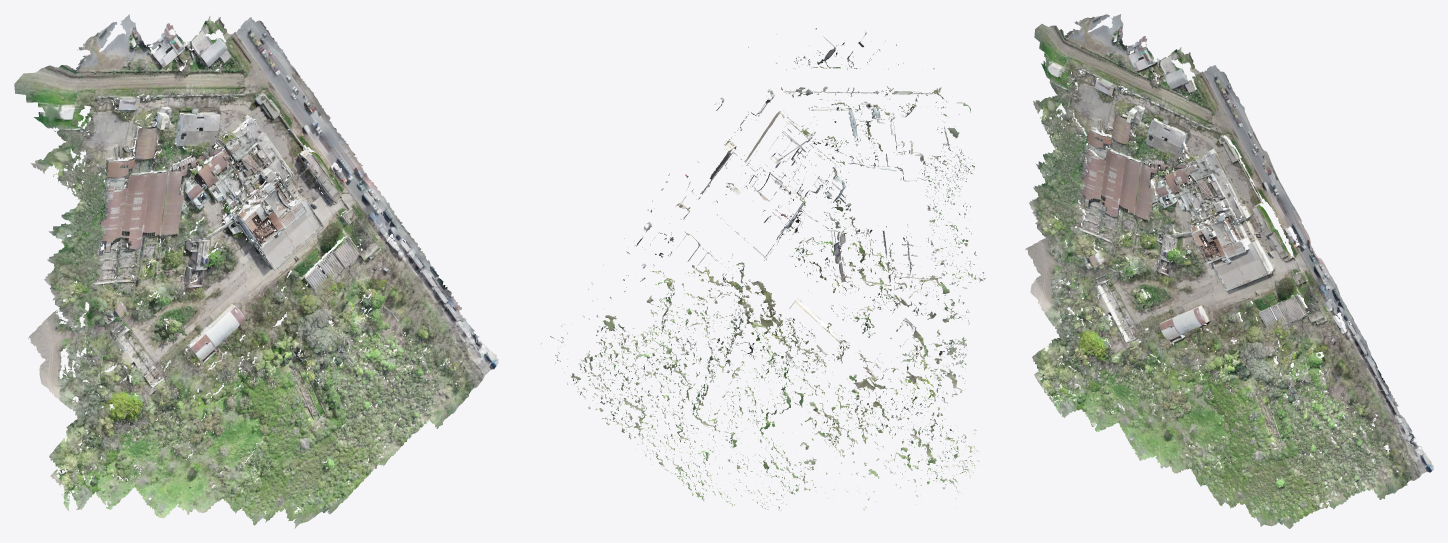
Rendered from modelo-baja.glb.
3 renders of one model, left to right at view 1: azimuth 30°, elevation 25°; view 2: azimuth 150°, elevation 25°; view 3: azimuth 330°, elevation 25°, orthographic. The views are drawn at different scales.
Size of the model in its own units: 319 by 357 by 32.91.
131 materials, 131 textured.
